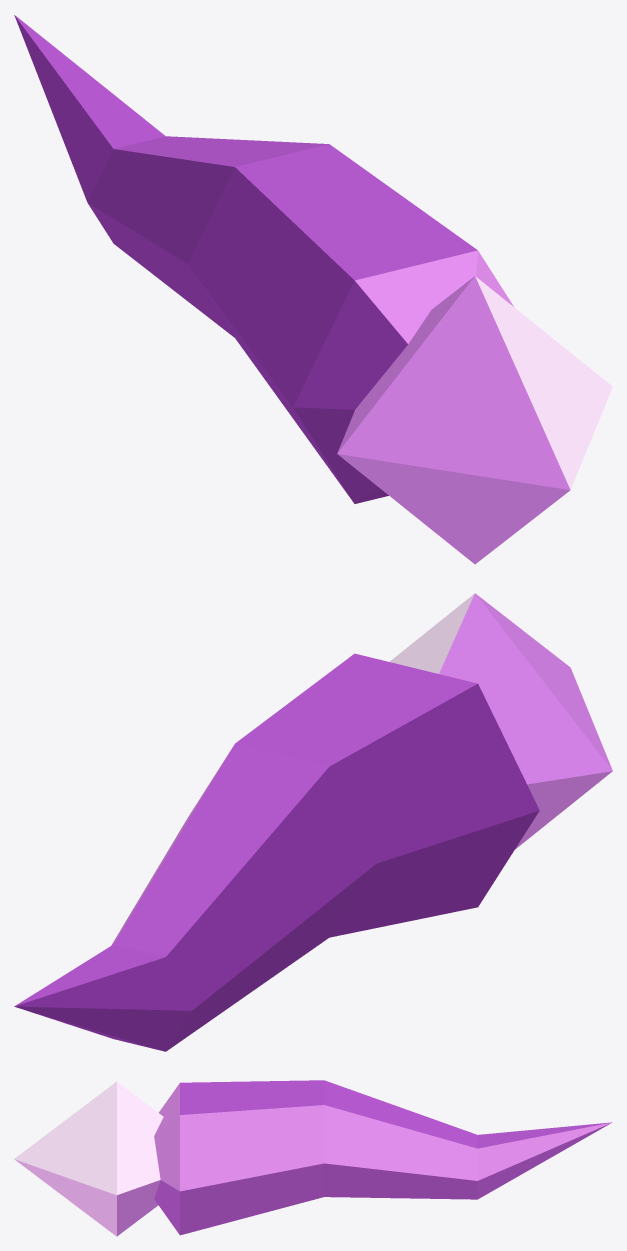
Rendered from proj_wispbolt.glb.
3 views of the same model, one above another, from view 1: azimuth 30°, elevation 25°; view 2: azimuth 150°, elevation 25°; view 3: azimuth 270°, elevation 25° (orthographic). The views are drawn at different scales.
Parts seen in each view (by area): view 1: Proj_tail, Proj_mote; view 2: Proj_tail, Proj_mote; view 3: Proj_tail, Proj_mote.
Part boxes in pixels (<box>): Proj_tail: <box>14,15,513,503</box>; Proj_mote: <box>337,276,612,564</box>; Proj_tail: <box>14,653,539,1051</box>; Proj_mote: <box>389,593,612,849</box>; Proj_tail: <box>154,1080,612,1235</box>; Proj_mote: <box>14,1081,163,1236</box>.
Bounding box in the file's own units: 0.19 × 0.19 × 0.664.
